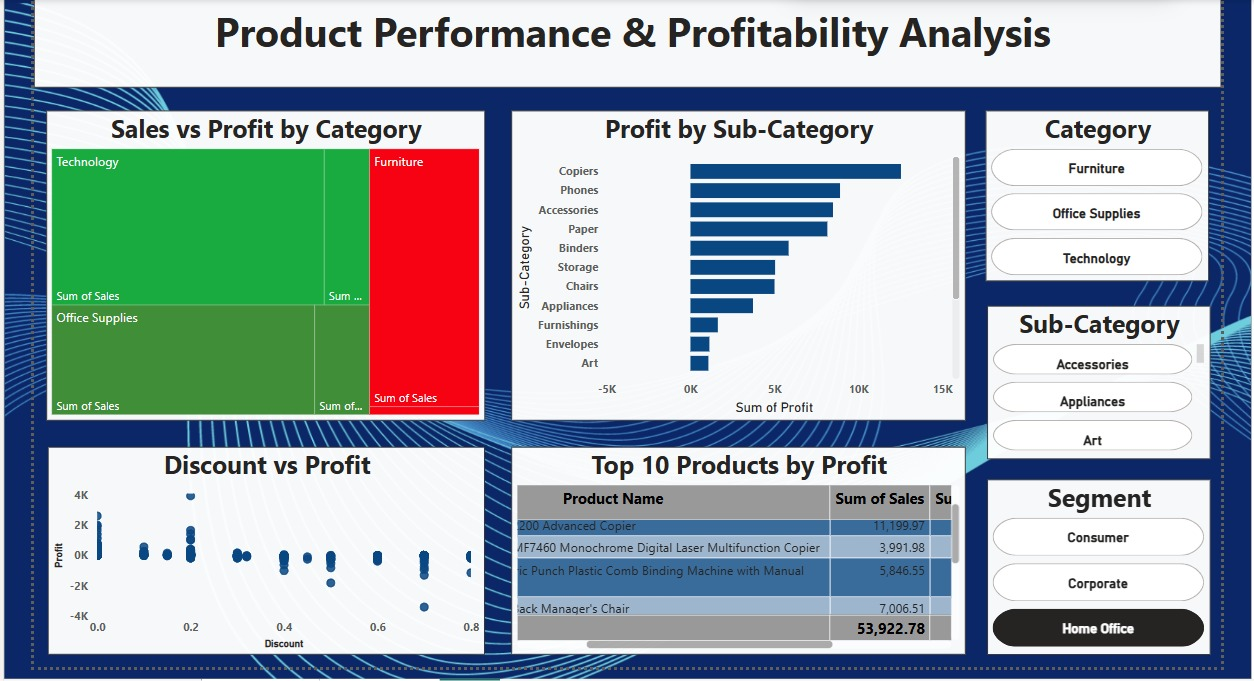

The page's visual inventory and layout, read from the dashboard file:
{"tool":"powerbi","page":{"name":"Product Performance & Profitability Analysis","canvas":[1280,720],"ordinal":1},"visuals":[{"type":"textbox","box":[0,0,1280,95.3],"z":0},{"type":"treemap","title":"Sales vs Profit by Category","fields":{"Values":["Sum(Sample - Superstore.Profit)","Sum(Sample - Superstore.Sales)"],"Group":["Sample - Superstore.Category"]},"box":[13.4,120.3,472.9,334.2],"z":1},{"type":"barChart","title":"Profit by Sub-Category","fields":{"Category":["Sample - Superstore.Sub-Category"],"Y":["Sum(Sample - Superstore.Profit)"]},"box":[514.7,120.3,489.6,334.2],"z":2},{"type":"scatterChart","title":"Discount vs Profit","fields":{"X":["Sample - Superstore.Discount"],"Y":["Sample - Superstore.Profit"]},"box":[15,482.9,471.2,223.9],"z":3},{"type":"tableEx","title":"Top 10 Products by Profit ","fields":{"Values":["Sample - Superstore.Product Name","Sum(Sample - Superstore.Sales)","Sum(Sample - Superstore.Profit)","Sum(Sample - Superstore.Quantity)"]},"box":[514.7,482.9,489.6,223.9],"z":4},{"type":"advancedSlicerVisual","fields":{"Values":["Sample - Superstore.Category"]},"box":[1026,120.3,240.6,183.8],"z":5},{"type":"advancedSlicerVisual","fields":{"Values":["Sample - Superstore.Sub-Category"]},"box":[1027.7,330.9,240.6,165.4],"z":6},{"type":"advancedSlicerVisual","fields":{"Values":["Sample - Superstore.Segment"]},"box":[1027.7,518,240.6,188.8],"z":7}]}

Visuals, with their boxes in screenshot pixels (x1, y1, x2, y2):
textbox: bbox=[26, 0, 1223, 83]
"Sales vs Profit by Category" treemap: bbox=[39, 106, 481, 418]
"Profit by Sub-Category" barChart: bbox=[507, 106, 965, 418]
"Discount vs Profit" scatterChart: bbox=[40, 445, 481, 654]
"Top 10 Products by Profit " tableEx: bbox=[507, 445, 965, 654]
advancedSlicerVisual - Sample - Superstore.Category: bbox=[985, 106, 1210, 278]
advancedSlicerVisual - Sample - Superstore.Sub-Category: bbox=[987, 303, 1212, 457]
advancedSlicerVisual - Sample - Superstore.Segment: bbox=[987, 478, 1212, 654]
